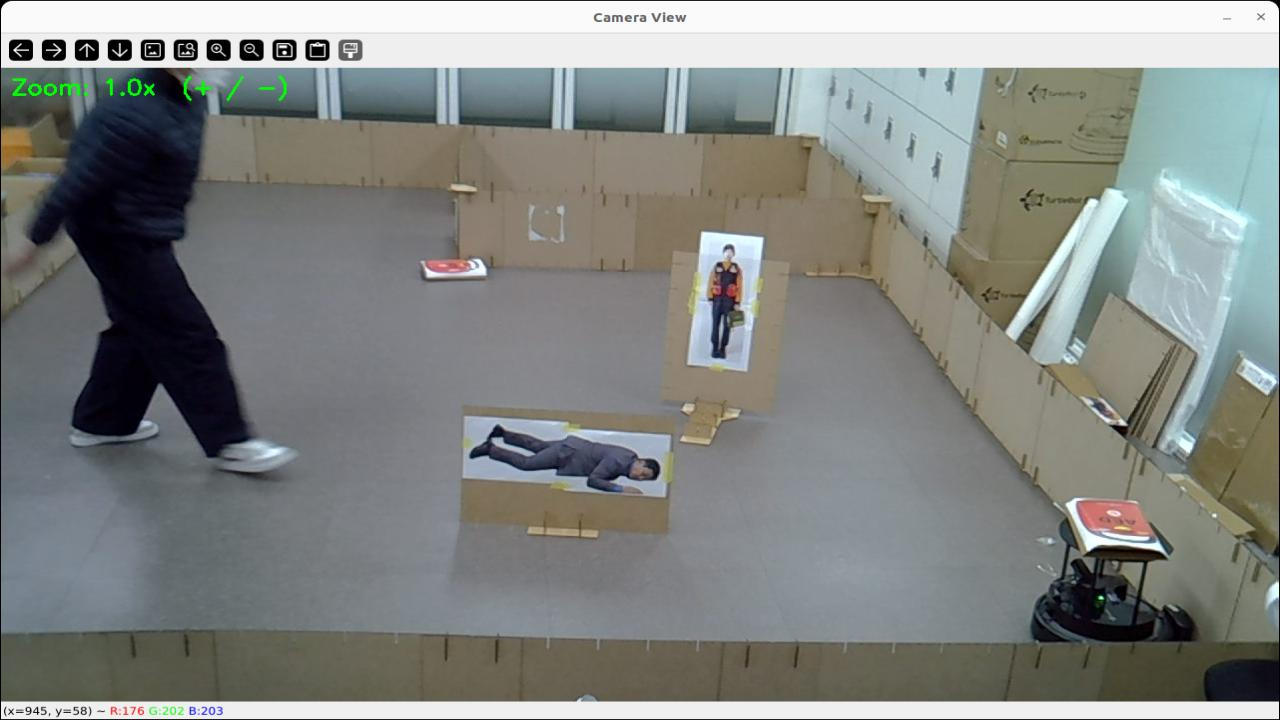Patient: (470, 424, 660, 493)
Responder: (708, 245, 743, 357)
